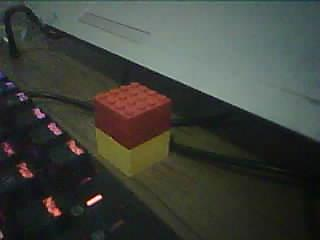lego: (92, 81, 173, 177)
